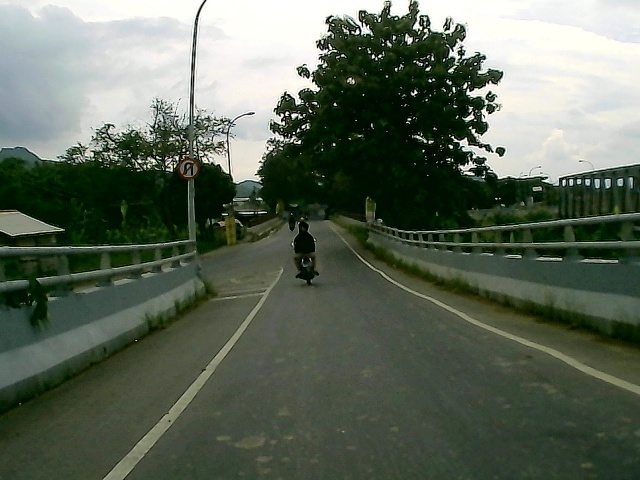Dilarang berbalik arah: (177, 158, 201, 180)
